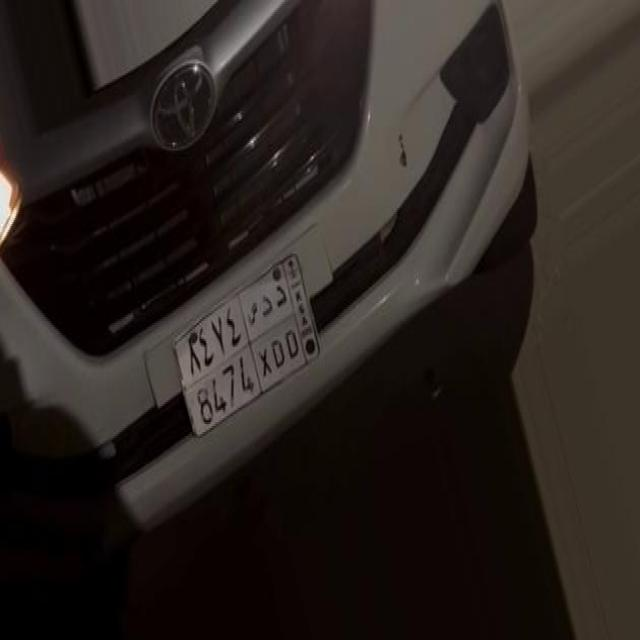Car-plate: (156, 220, 339, 477)
